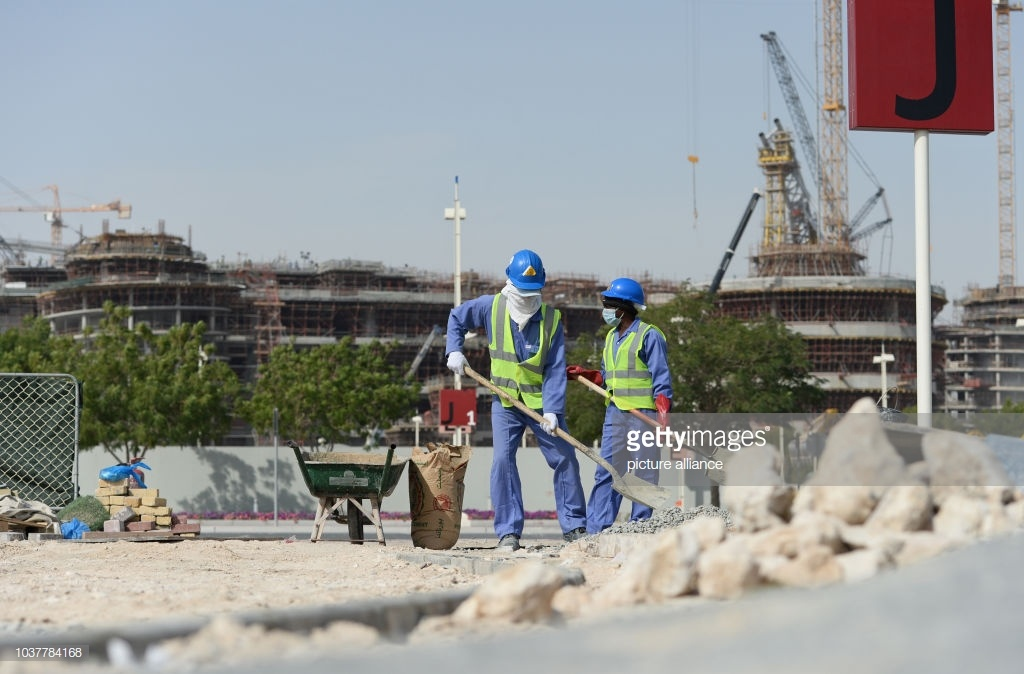blue: (598, 276, 648, 329), (506, 251, 545, 304)
